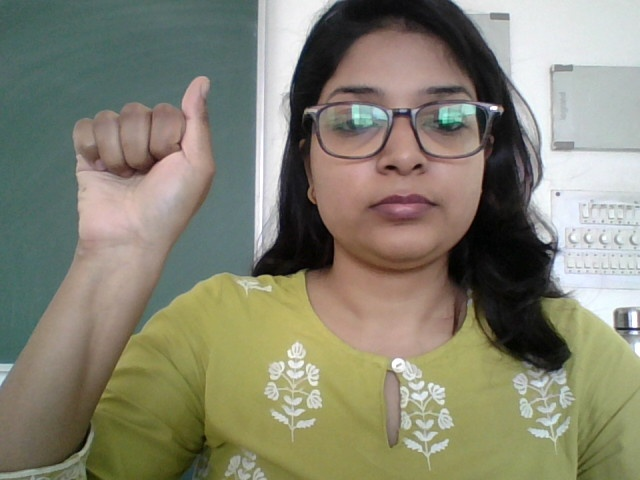A: (62, 72, 237, 316)
